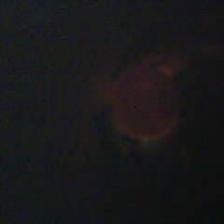fertile: (106, 61, 184, 146)
